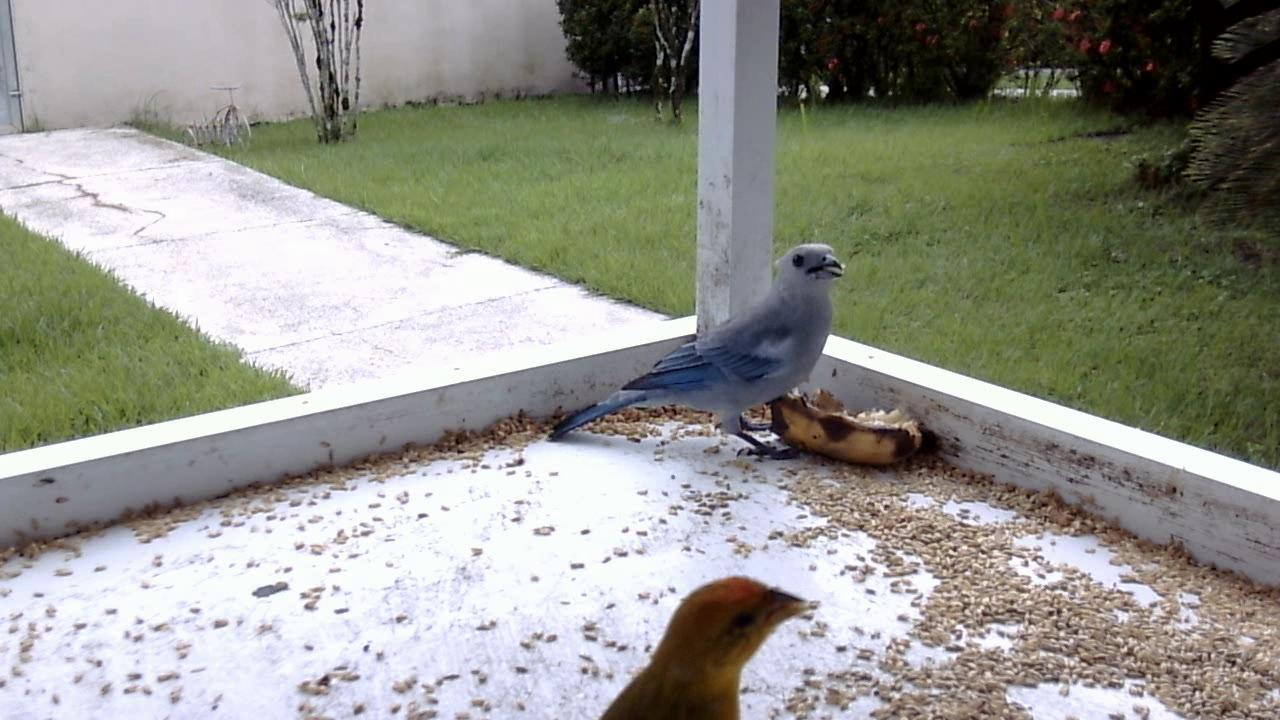canario_do_amazonas: (580, 568, 819, 712)
sanhaco_da_amazonia: (542, 245, 846, 463)
